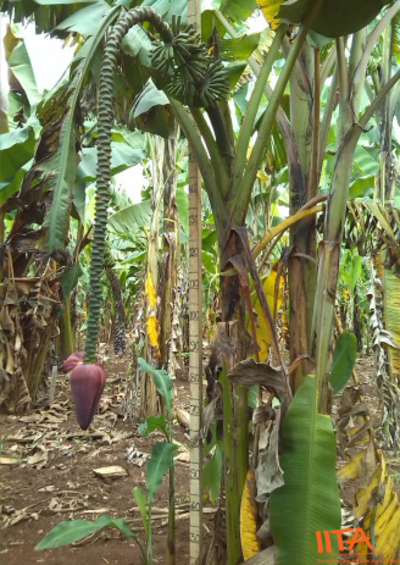bananaHand: (147, 14, 231, 110)
